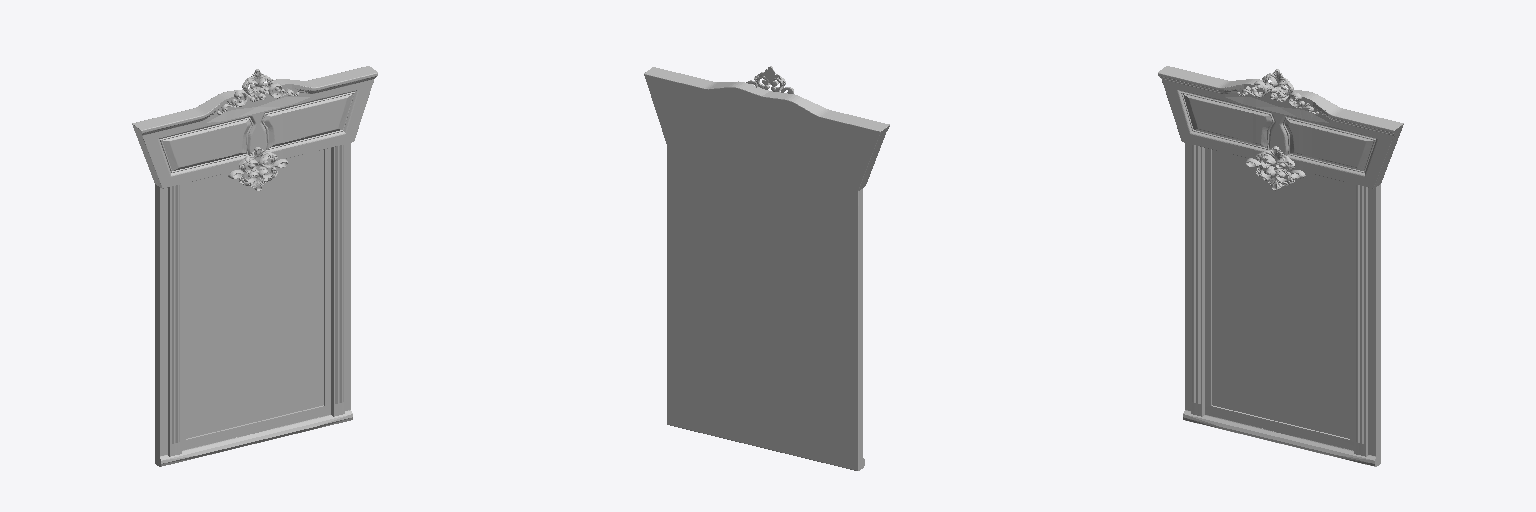
File: Manor House Whitewashed Mirror_obj.obj
3 renders of one model, left to right at view 1: azimuth 30°, elevation 25°; view 2: azimuth 150°, elevation 25°; view 3: azimuth 330°, elevation 25°, orthographic.
Visible parts, largest first — view 1: Box001, Box002, Line044, Line043; view 2: Box001, Line043; view 3: Box001, Box002, Line044, Line043.
Boxes of the visible parts, x1,y1,x2,y2 form: Box001: [132, 66, 377, 466]; Box002: [168, 144, 344, 456]; Line044: [228, 147, 287, 190]; Line043: [217, 69, 298, 114]; Box001: [644, 67, 889, 470]; Line043: [746, 66, 793, 93]; Box001: [1158, 66, 1403, 466]; Box002: [1191, 144, 1367, 456]; Line044: [1246, 146, 1305, 190]; Line043: [1237, 69, 1318, 114].
Size of the model in its own units: 66.98 by 101 by 5.53.